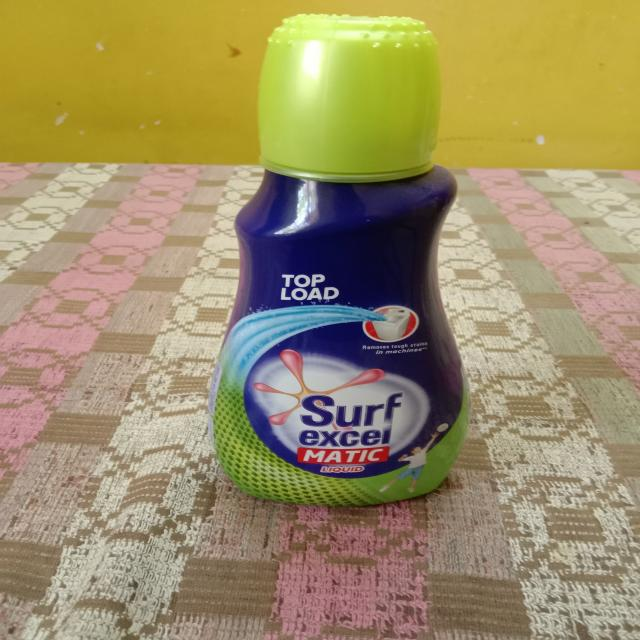detergent: (204, 3, 478, 513)
